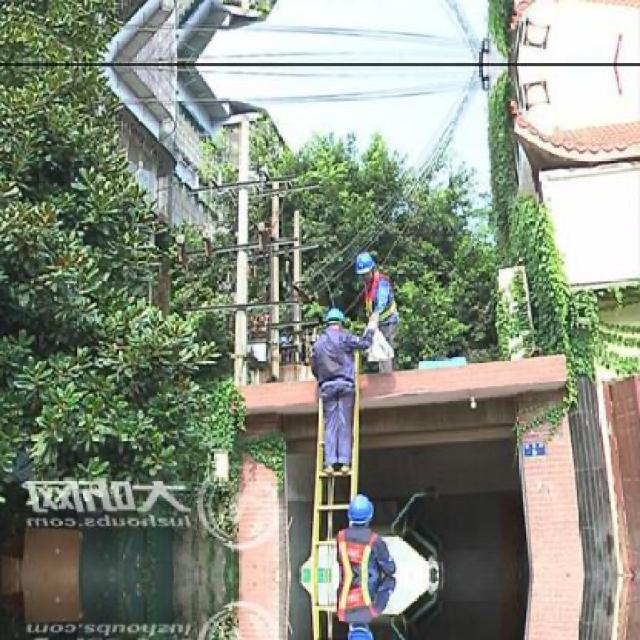helmet: (344, 491, 374, 529), (351, 248, 380, 282), (322, 304, 348, 330), (344, 620, 376, 638)
